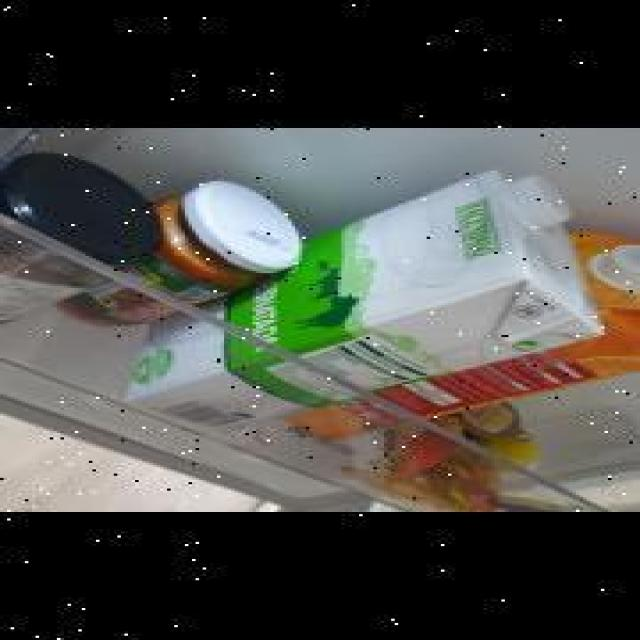milk: (134, 160, 596, 433)
